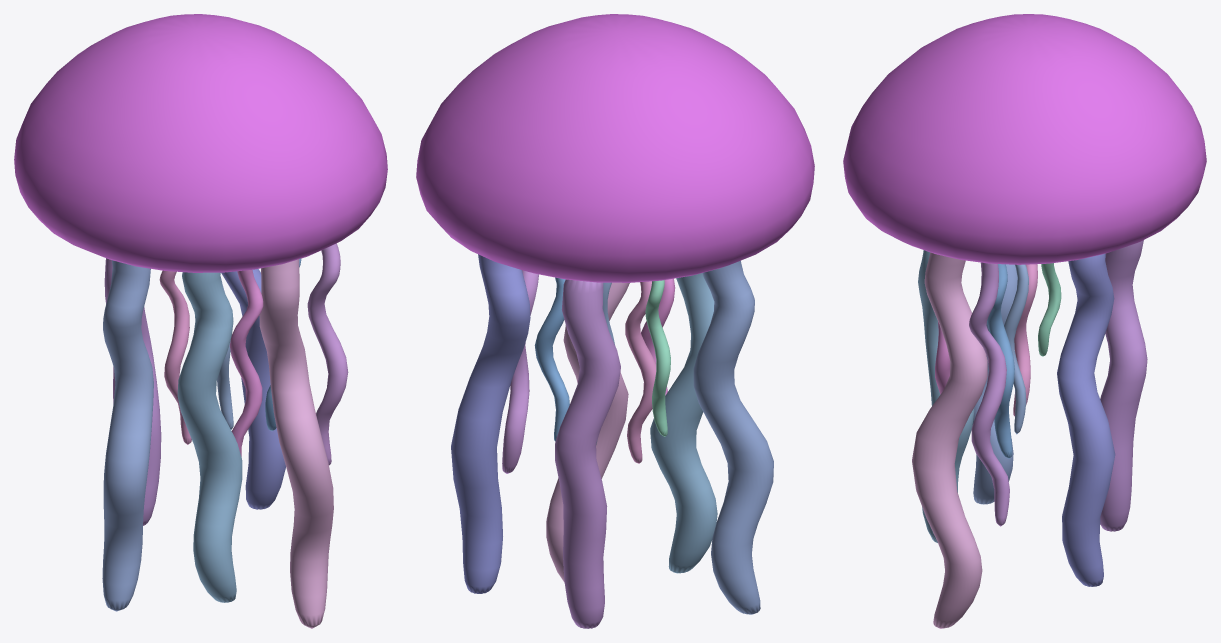
File: Jellyfish.fbx
3 renders of one model, left to right at view 1: azimuth 30°, elevation 25°; view 2: azimuth 150°, elevation 25°; view 3: azimuth 270°, elevation 25°, orthographic. The views are drawn at different scales.
Visible parts, largest first — view 1: Jellyfish, Cylinder.002, Cylinder.004, Cylinder.001, Cylinder.003, Cylinder.005, Cylinder.008, Cylinder.010, Cylinder, Cylinder.007; view 2: Jellyfish, Cylinder.004, Cylinder, Cylinder.003, Cylinder.001, Cylinder.002, Cylinder.010, Cylinder.005, Cylinder.009, Cylinder.006, Cylinder.008; view 3: Jellyfish, Cylinder.002, Cylinder.003, Cylinder, Cylinder.005, Cylinder.009, Cylinder.001, Cylinder.004, Cylinder.007, Cylinder.010, Cylinder.006, Cylinder.008.
Boxes of the visible parts, x1,y1,x2,y2 form: Jellyfish: (14, 14, 387, 272); Cylinder.002: (259, 259, 333, 628); Cylinder.004: (102, 260, 153, 611); Cylinder.001: (177, 272, 242, 602); Cylinder.003: (221, 269, 285, 509); Cylinder.005: (307, 243, 348, 465); Cylinder.008: (229, 270, 263, 456); Cylinder.010: (159, 270, 191, 444); Cylinder: (104, 258, 161, 525); Cylinder.007: (217, 277, 233, 429); Jellyfish: (416, 14, 814, 282); Cylinder.004: (693, 261, 773, 614); Cylinder: (555, 279, 620, 628); Cylinder.003: (451, 254, 530, 593); Cylinder.001: (650, 273, 717, 573); Cylinder.002: (546, 282, 629, 582); Cylinder.010: (625, 281, 656, 463); Cylinder.005: (502, 270, 538, 473); Cylinder.009: (534, 277, 569, 441); Cylinder.006: (645, 280, 670, 436); Cylinder.008: (641, 278, 675, 395); Jellyfish: (843, 14, 1206, 264); Cylinder.002: (912, 252, 987, 628); Cylinder.003: (1057, 253, 1115, 586); Cylinder: (1100, 240, 1147, 531); Cylinder.005: (969, 262, 1009, 526); Cylinder.009: (987, 264, 1014, 458); Cylinder.001: (918, 250, 974, 542); Cylinder.004: (972, 264, 1017, 504); Cylinder.007: (1004, 264, 1028, 434); Cylinder.010: (1013, 264, 1037, 416); Cylinder.006: (1038, 263, 1061, 356); Cylinder.008: (935, 322, 949, 394).
Size of the model in its own units: 168 by 289 by 168.
